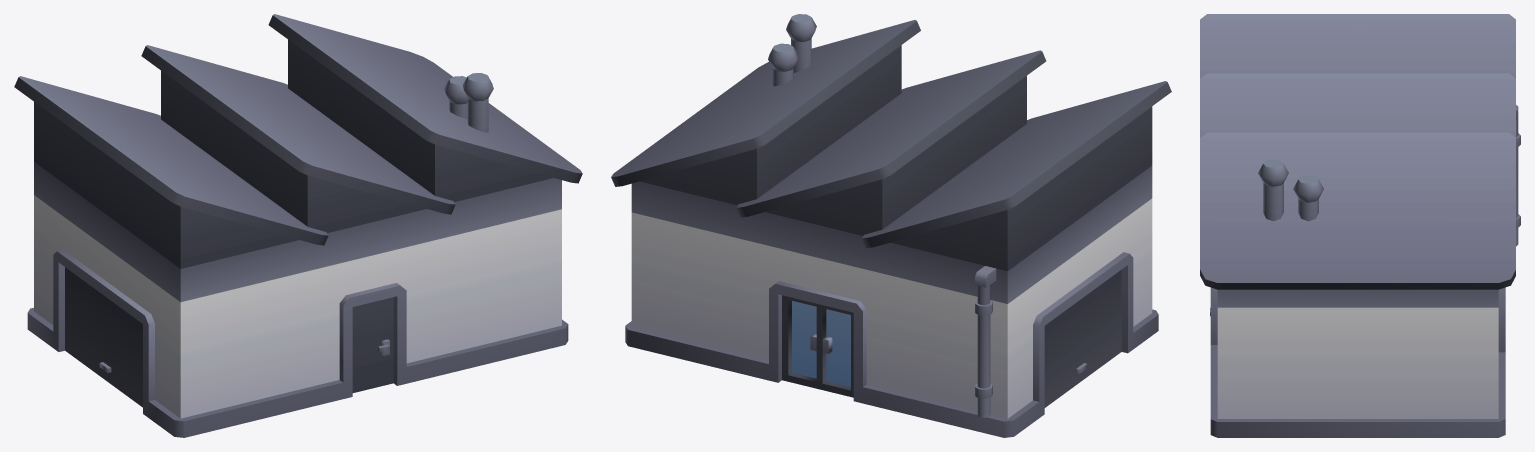
File: k-city-kit-industrial-building-k.glb
The picture shows the model from 3 angles, left to right: view 1: azimuth 30°, elevation 25°; view 2: azimuth 150°, elevation 25°; view 3: azimuth 270°, elevation 25°; orthographic projection. The views are drawn at different scales.
Visible parts, largest first — view 1: building-k; view 2: building-k; view 3: building-k.
Boxes of the visible parts, <box> form: building-k: <box>14,14,582,437</box>; building-k: <box>611,14,1171,437</box>; building-k: <box>1200,14,1520,437</box>.
Size of the model in its own units: 1.3 by 0.7727 by 0.9136.
1 material, 1 textured.
